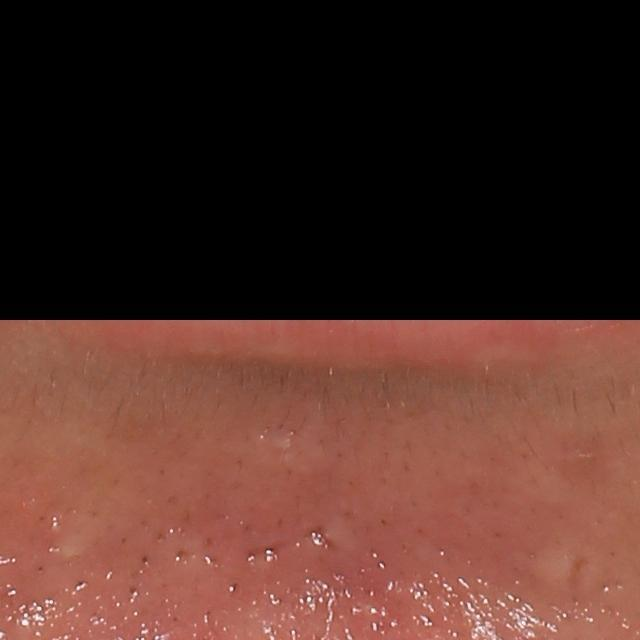atrophic_scar: (304, 522, 342, 552), (566, 552, 586, 603), (259, 542, 284, 566)
hypertrophic_scar: (218, 403, 340, 490), (54, 521, 95, 563), (531, 548, 576, 585)
